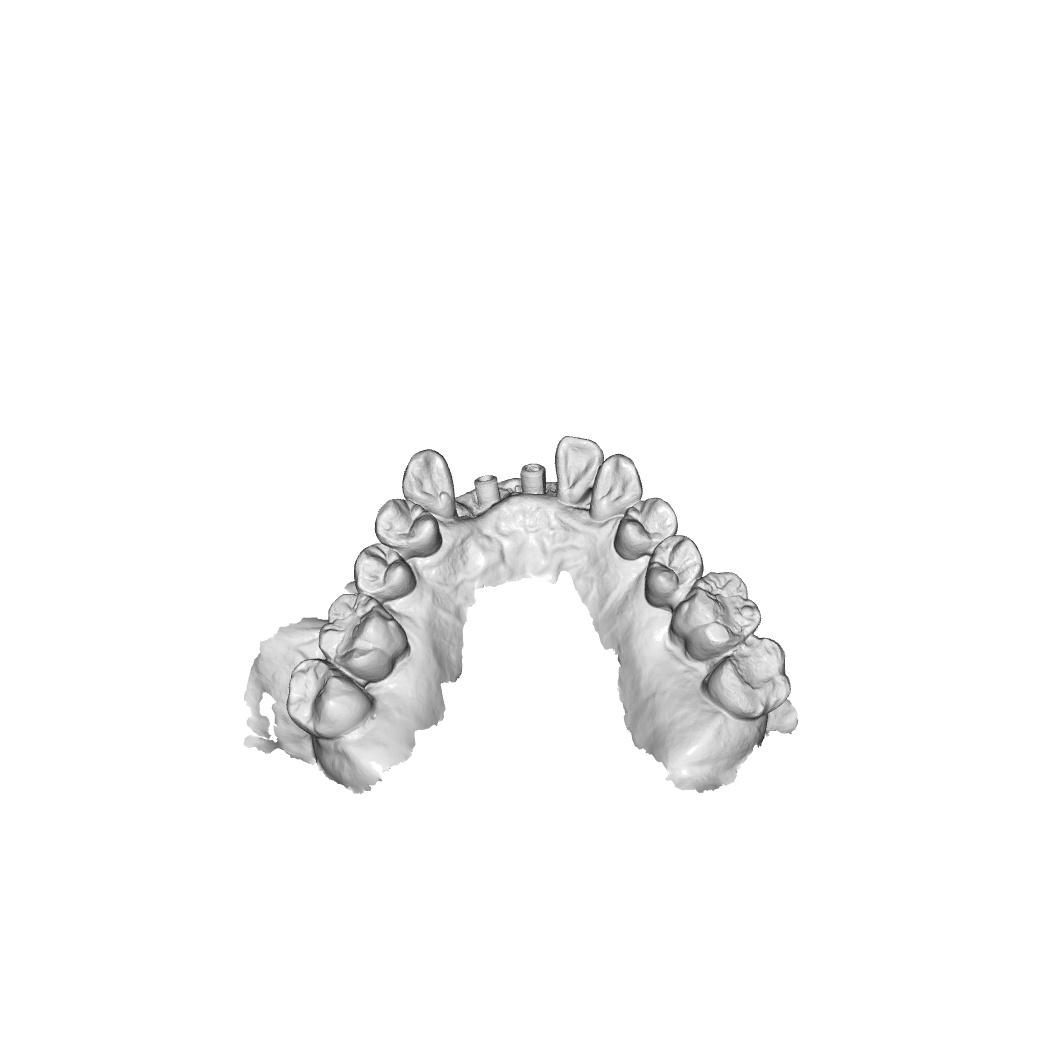canine: (400, 445, 459, 521), (588, 453, 644, 522)
implant: (472, 474, 503, 510), (519, 460, 548, 497)
incisor: (552, 433, 605, 507)
molar: (666, 571, 761, 664), (317, 591, 411, 684), (701, 636, 792, 722), (285, 657, 375, 741)
premolar: (644, 533, 705, 609), (613, 496, 680, 562), (374, 498, 444, 559), (352, 541, 418, 603)
